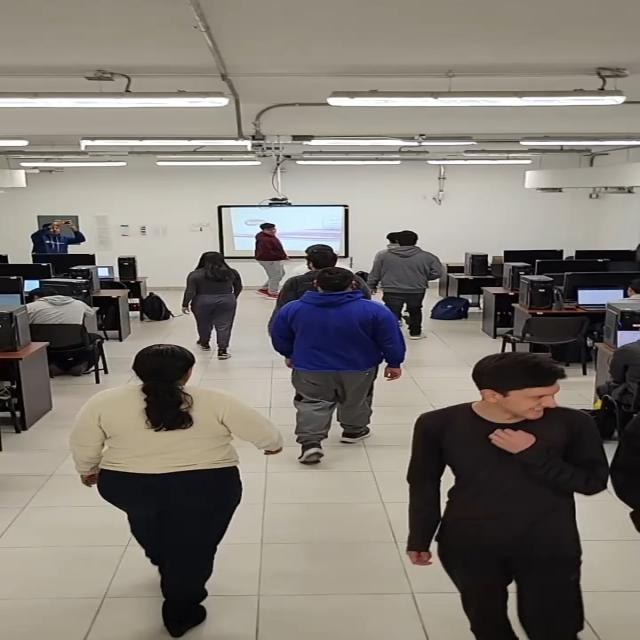Persona: (400, 350, 640, 640), (71, 344, 285, 640), (267, 266, 414, 467), (366, 228, 452, 341), (178, 252, 249, 361), (280, 239, 375, 315), (244, 222, 294, 300)
